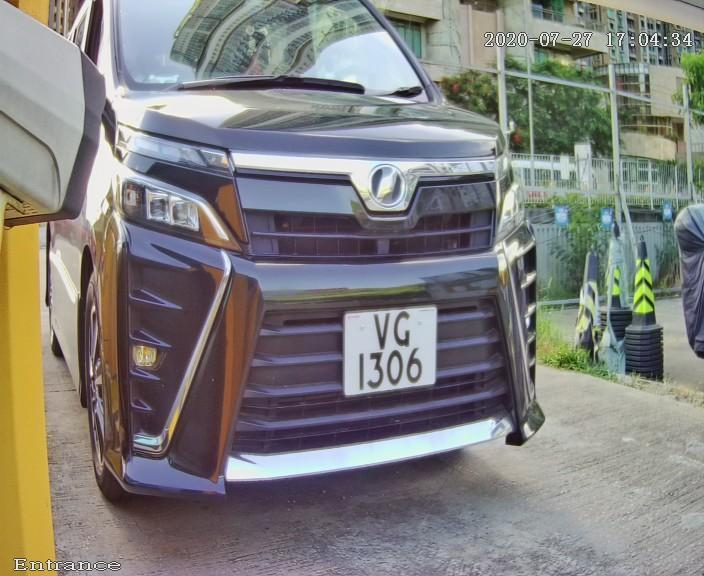privatecar: (38, 18, 623, 510)
